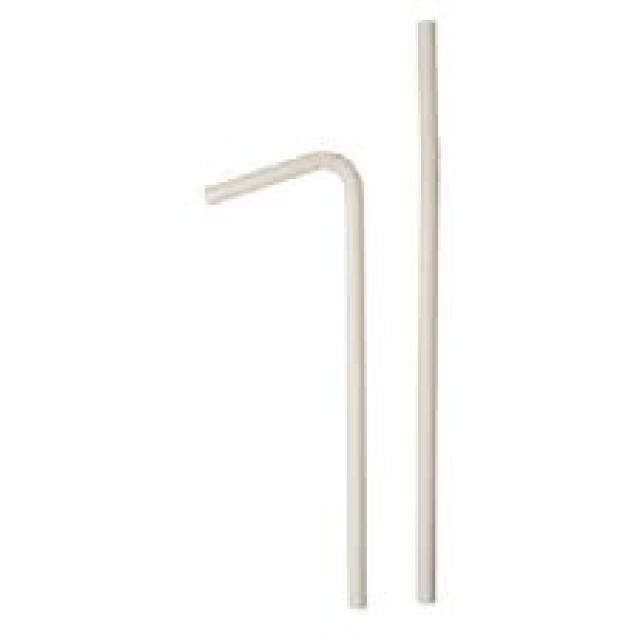straw: (205, 151, 365, 608), (416, 20, 439, 602)
